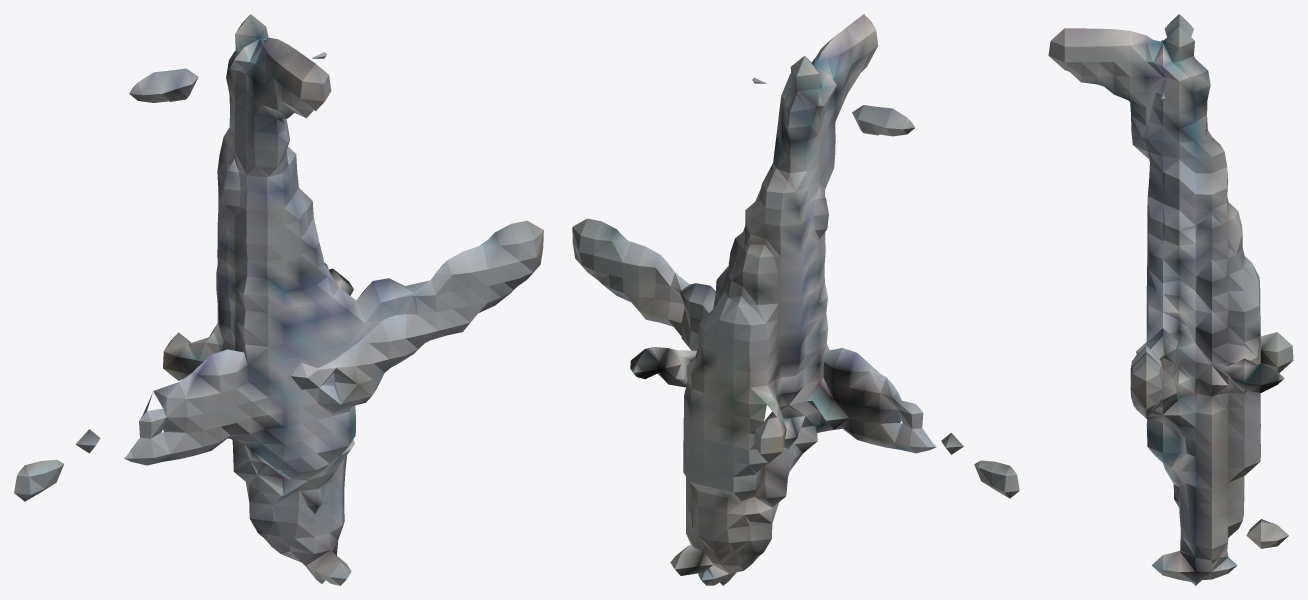
File: 000002_plane_cessna caravan_flying_10240_64.glb
3 views of the same model, side by side, from view 1: azimuth 30°, elevation 25°; view 2: azimuth 150°, elevation 25°; view 3: azimuth 270°, elevation 25° (orthographic). The views are drawn at different scales.
Parts seen in each view (by area): view 1: world; view 2: world; view 3: world.
Boxes of the visible parts, left/top/right/bottom form: world: left=14, top=14, right=543, bottom=585; world: left=572, top=14, right=1019, bottom=585; world: left=1048, top=14, right=1293, bottom=585.
Bounding box in the file's own units: 0.8757 × 0.9765 × 0.4132.
